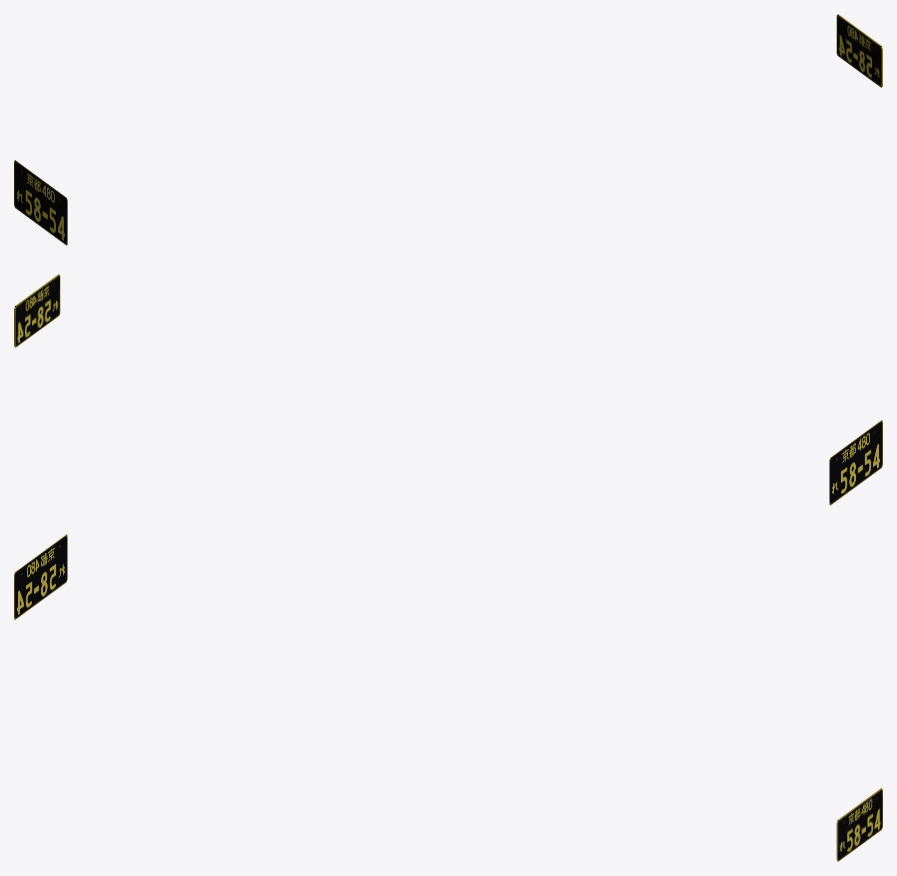
Rendered from acty-hh5-plate-acty-5854.glb.
The picture shows the model from 3 angles, top to bottom: view 1: azimuth 30°, elevation 25°; view 2: azimuth 150°, elevation 25°; view 3: azimuth 330°, elevation 25°; orthographic projection.
Visible parts, largest first — view 1: Front_License_Plate; view 2: Front_License_Plate; view 3: Front_License_Plate.
Boxes of the visible parts, x1=… form: Front_License_Plate: x1=14, y1=14, x2=882, y2=245; Front_License_Plate: x1=14, y1=274, x2=882, y2=505; Front_License_Plate: x1=14, y1=534, x2=882, y2=861.
Bounding box in the file's own units: 3.35 × 0.3622 × 0.3811.
1 material, 1 textured.
